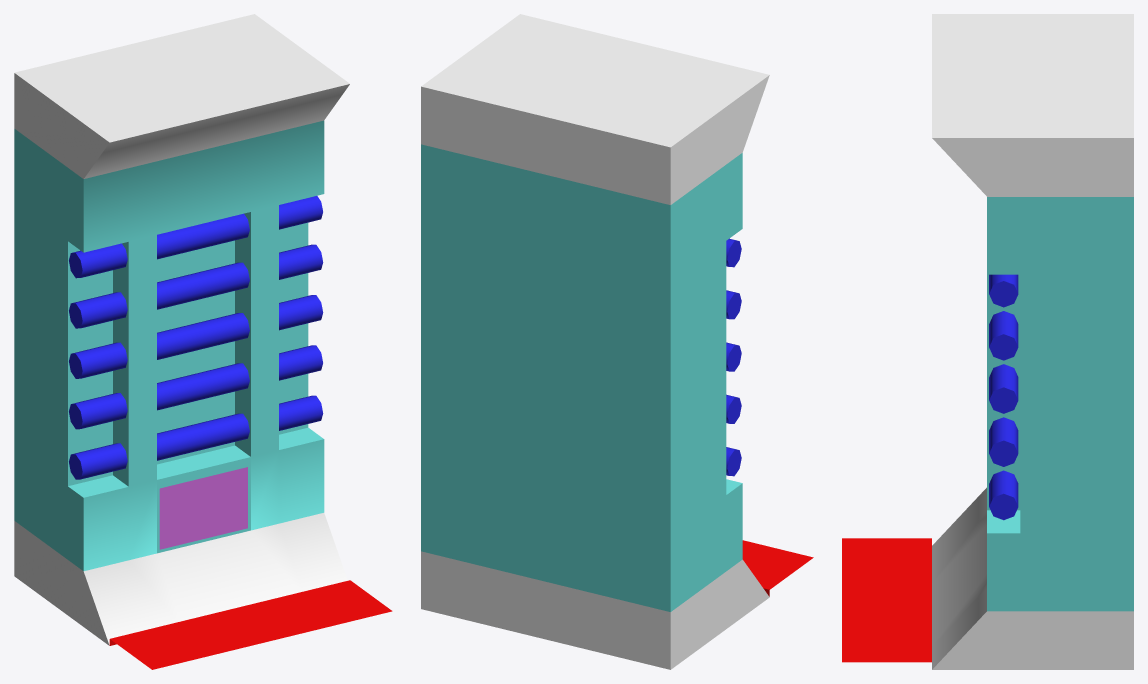
File: Wall-Base.fbx
3 views of the same model, side by side, from view 1: azimuth 30°, elevation 25°; view 2: azimuth 150°, elevation 25°; view 3: azimuth 270°, elevation 25° (orthographic). The views are drawn at different scales.
Parts seen in each view (by area): view 1: Base; view 2: Base; view 3: Base.
Part boxes in pixels (x1,y1,x2,y2): Base: (14,14,392,669); Base: (421,14,813,669); Base: (842,14,1133,669).
Bounding box in the file's own units: 78.74 × 157 × 78.28.
